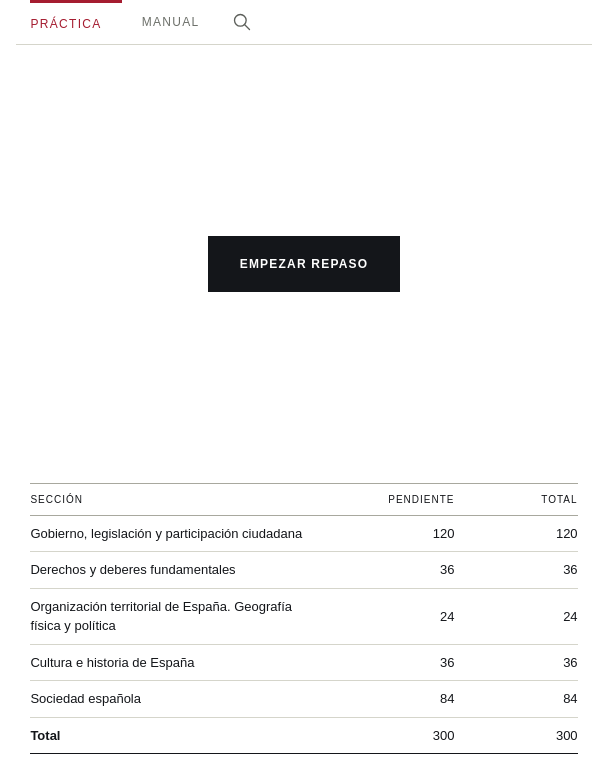
it: App › opens the manual from the top-level navigation
Click the link "Manual": (171, 22) x1=142 y1=15 x2=200 y2=29
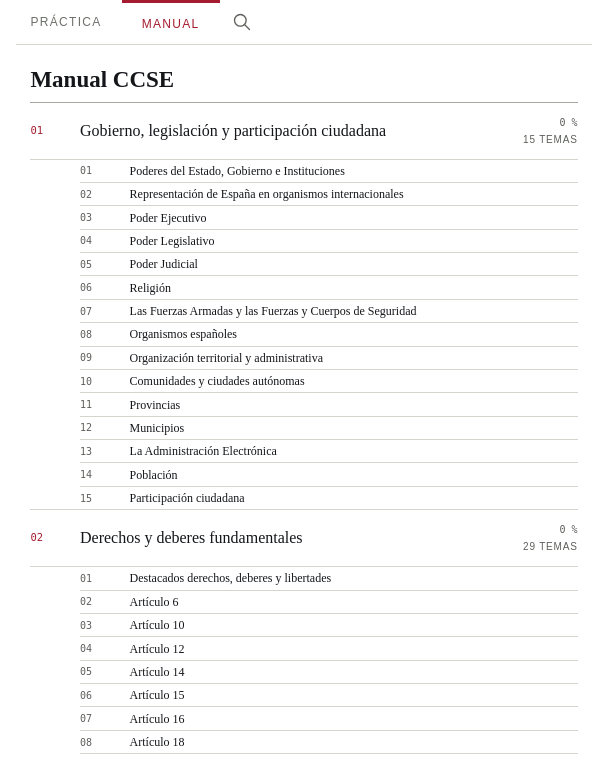
Now the heading "Manual CCSE" is shown, box x1=30 y1=67 x2=174 y2=93
